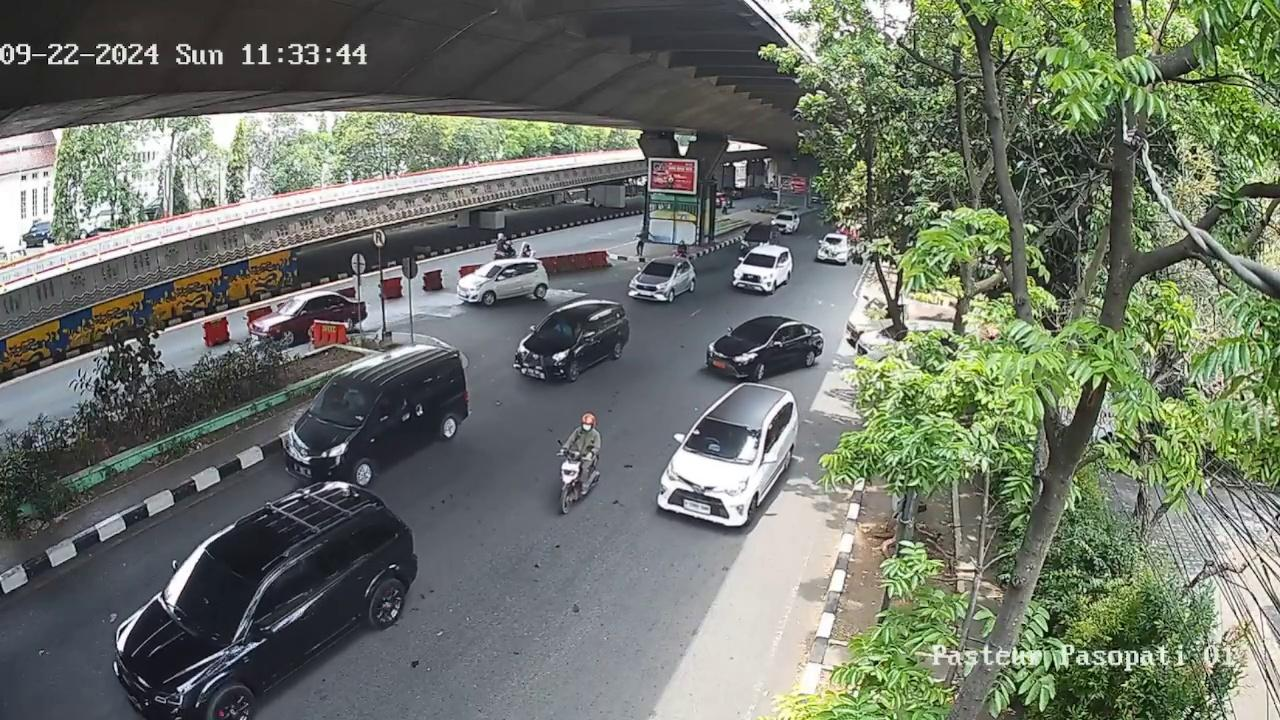pakai: (553, 318, 574, 338)
tidak-pakai: (341, 388, 366, 413)
windshield: (163, 549, 254, 627), (682, 416, 769, 468), (306, 373, 387, 424), (536, 315, 586, 344), (729, 320, 776, 345), (743, 252, 778, 268), (641, 262, 677, 277)
